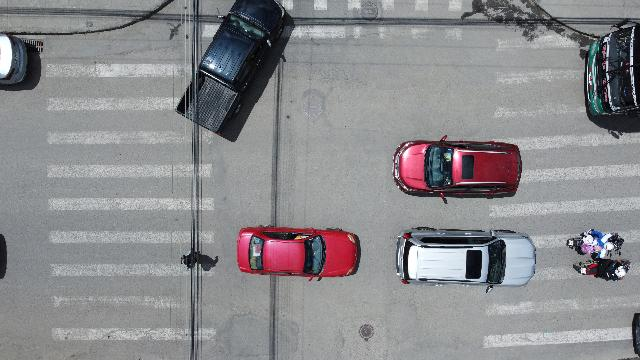Vehiculo: (175, 0, 287, 134), (396, 228, 536, 292), (392, 136, 522, 200), (236, 225, 360, 281), (584, 23, 640, 117)
